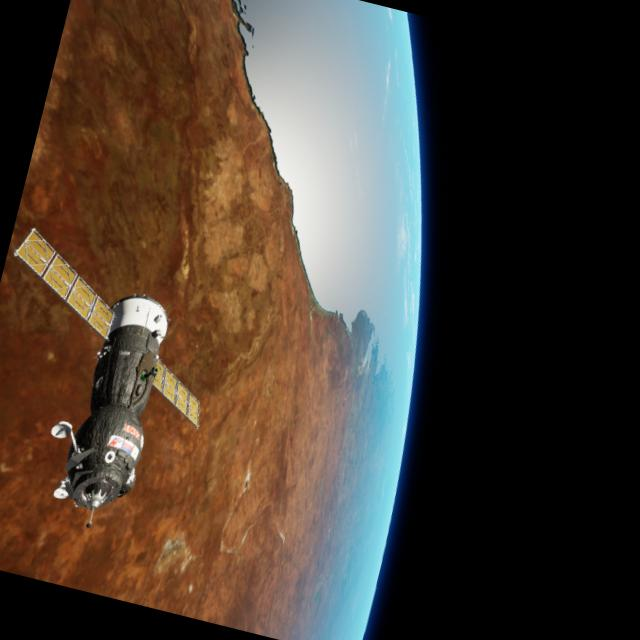Satellites revolving around earth: (0, 0, 513, 640), (0, 220, 237, 549)
